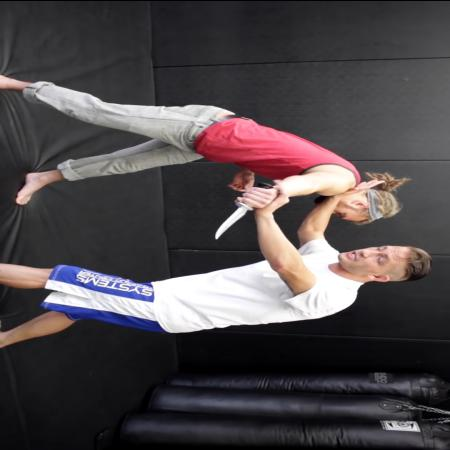long weapon: (210, 178, 278, 241)
